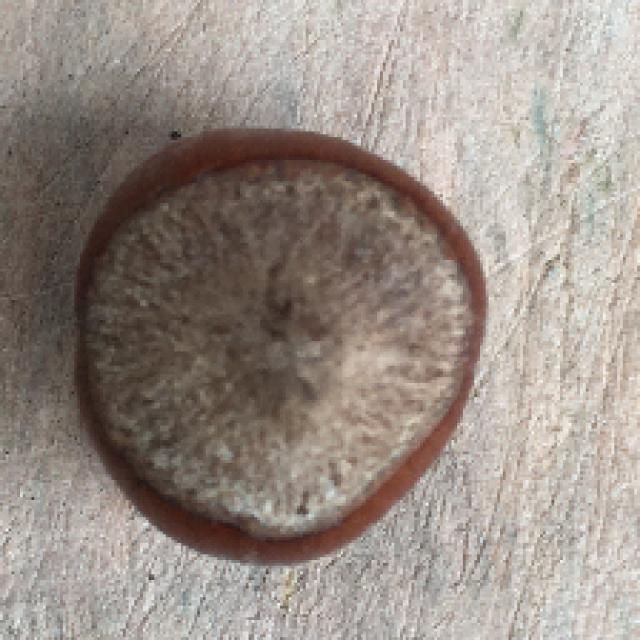qualityHazelnut: (71, 123, 490, 563)
